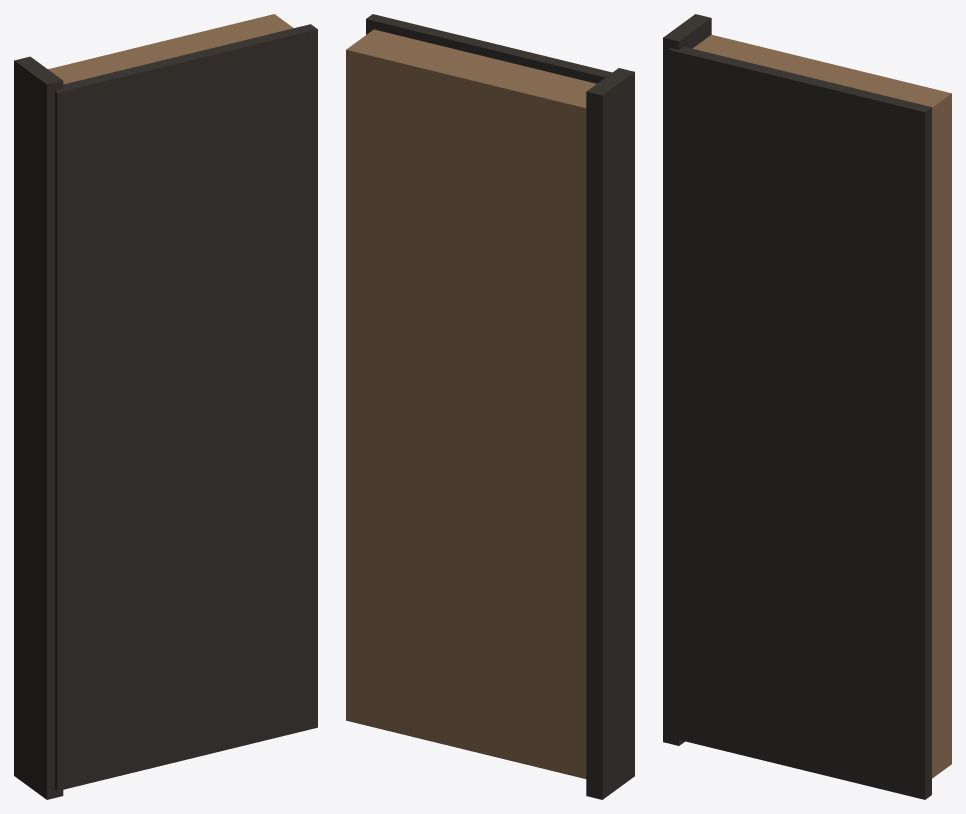
File: SM_Euphrates_Dock.obj
The picture shows the model from 3 angles, left to right: view 1: azimuth 30°, elevation 25°; view 2: azimuth 150°, elevation 25°; view 3: azimuth 330°, elevation 25°; orthographic projection.
Parts seen in each view (by area): view 1: DarkBasalt, Mudbrick; view 2: Mudbrick, DarkBasalt; view 3: DarkBasalt, Mudbrick.
Part boxes in pixels (x1,y1,x2,y2): DarkBasalt: [14, 24, 317, 799]; Mudbrick: [48, 14, 293, 84]; Mudbrick: [346, 29, 596, 778]; DarkBasalt: [366, 14, 634, 799]; DarkBasalt: [663, 14, 931, 799]; Mudbrick: [692, 34, 951, 778].
Size of the model in its own units: 660 by 1680 by 150.
